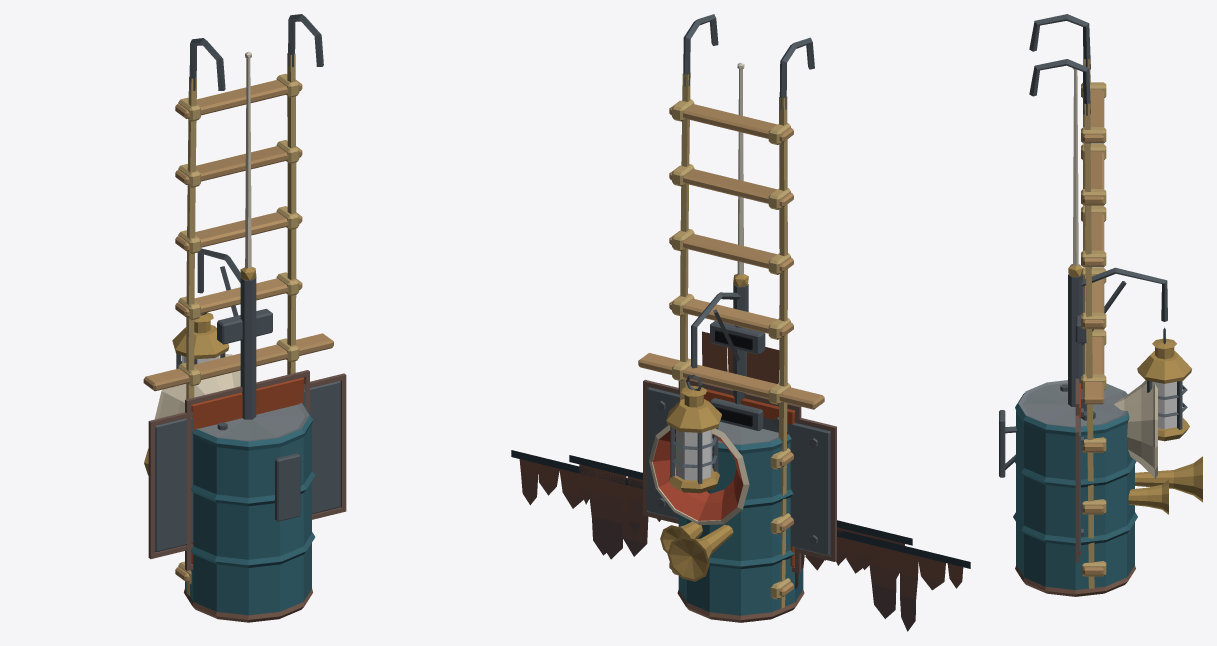
Rendered from cubierta.glb.
3 views of the same model, side by side, from view 1: azimuth 30°, elevation 25°; view 2: azimuth 150°, elevation 25°; view 3: azimuth 270°, elevation 25° (orthographic). The views are drawn at different scales.
Visible parts, largest first — view 1: bidon, escalerilla, parche_0, farol_poste, parche_1, farol, manguerote, antena, imbornal_1; view 2: escalerilla, bidon, costura_1, parche_0, costura_0, farol_poste, manguerote, imbornal_1, bocina, parche_1, farol_poste_luz, imbornal_0 (+1 smaller); view 3: bidon, escalerilla, farol_poste, manguerote, bocina, antena, parche_0, farol_poste_luz, farol.
Boxes of the visible parts, left/top/right/bottom form: bidon: left=184, top=403, right=315, bottom=622; escalerilla: left=143, top=14, right=333, bottom=595; parche_0: left=148, top=373, right=346, bottom=558; farol_poste: left=172, top=248, right=256, bottom=419; parche_1: left=185, top=370, right=309, bottom=570; farol: left=275, top=453, right=300, bottom=521; manguerote: left=154, top=354, right=240, bottom=419; antena: left=245, top=51, right=251, bottom=268; imbornal_1: left=217, top=308, right=272, bottom=344; escalerilla: left=638, top=14, right=824, bottom=608; bidon: left=677, top=422, right=804, bottom=622; costura_1: left=511, top=450, right=970, bottom=631; parche_0: left=643, top=379, right=836, bottom=589; costura_0: left=569, top=455, right=912, bottom=582; farol_poste: left=666, top=273, right=748, bottom=493; manguerote: left=649, top=425, right=749, bottom=525; imbornal_1: left=702, top=321, right=779, bottom=621; bocina: left=660, top=521, right=733, bottom=581; parche_1: left=678, top=379, right=801, bottom=573; farol_poste_luz: left=676, top=429, right=712, bottom=480; imbornal_0: left=710, top=398, right=763, bottom=430; bidon: left=1013, top=380, right=1137, bottom=596; escalerilla: left=1029, top=14, right=1106, bottom=588; farol_poste: left=1068, top=264, right=1191, bottom=441; manguerote: left=1114, top=380, right=1157, bottom=479; bocina: left=1128, top=456, right=1202, bottom=514; antena: left=1072, top=68, right=1078, bottom=266; parche_0: left=1075, top=415, right=1083, bottom=559; farol_poste_luz: left=1146, top=381, right=1182, bottom=429; farol: left=999, top=410, right=1016, bottom=477.
Bounding box in the file's own units: 2.38 × 2.9 × 0.96.
